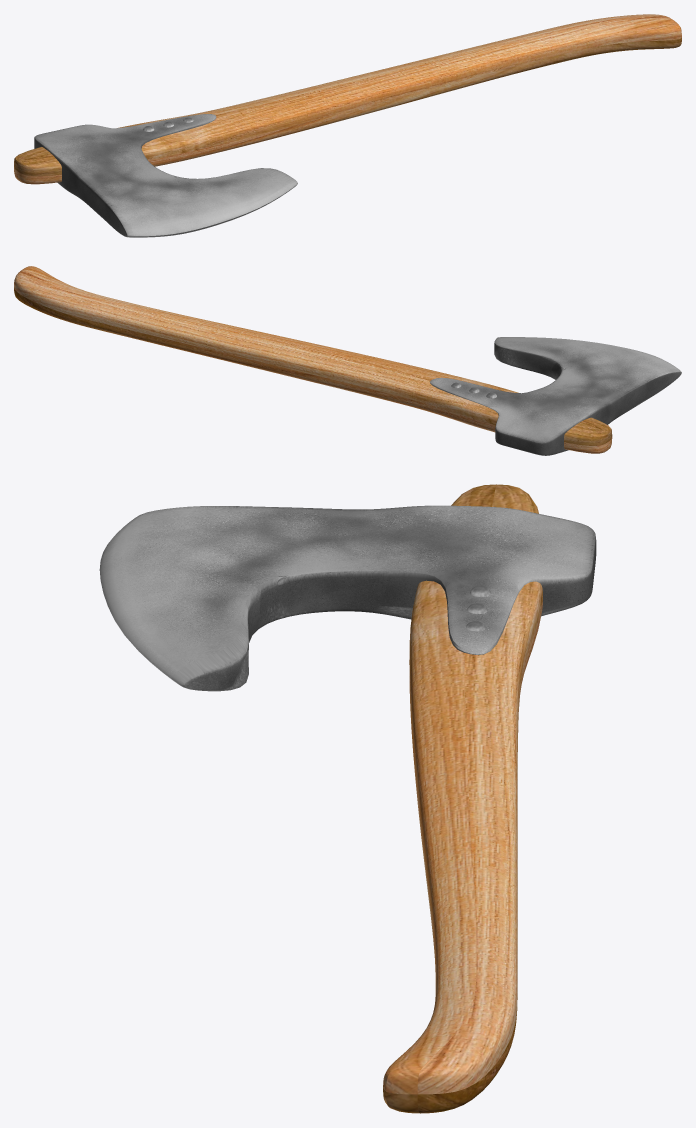
Rendered from Axe 1.fbx.
3 views of the same model, one above another, from view 1: azimuth 30°, elevation 25°; view 2: azimuth 150°, elevation 25°; view 3: azimuth 270°, elevation 25° (orthographic). The views are drawn at different scales.
Parts seen in each view (by area): view 1: Топор; view 2: Топор; view 3: Топор.
Part boxes in pixels (x1,y1,x2,y2): Топор: (14, 14, 681, 237); Топор: (14, 266, 681, 455); Топор: (99, 484, 596, 1113).
Bounding box in the file's own units: 52.92 × 2.68 × 18.74.
3 materials, 3 textured.
